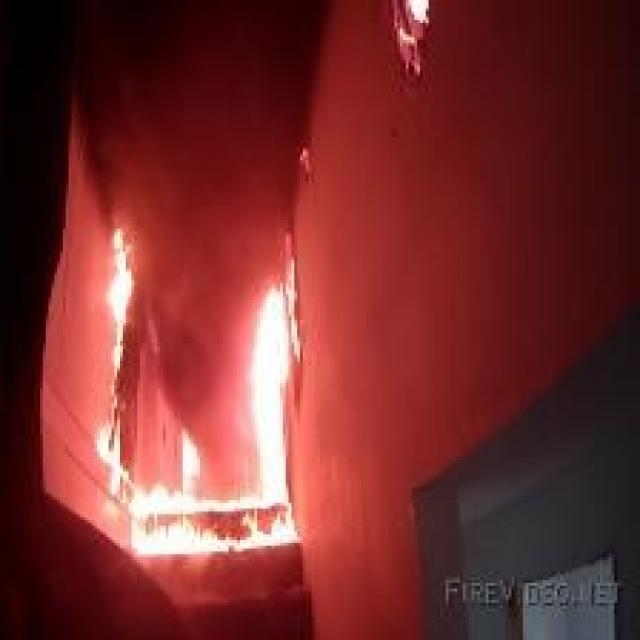fire: (106, 220, 311, 563)
